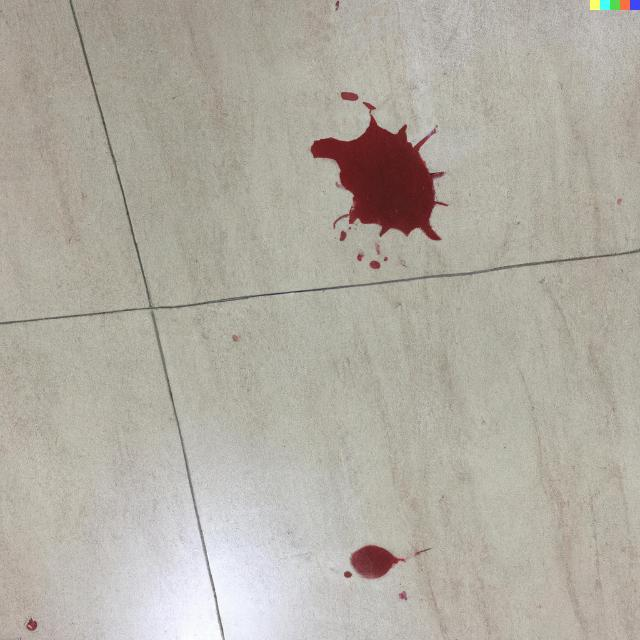blood: (309, 101, 449, 241), (350, 544, 405, 579), (341, 91, 359, 101), (369, 260, 381, 269), (339, 230, 346, 241), (343, 571, 352, 578), (356, 253, 362, 261)
